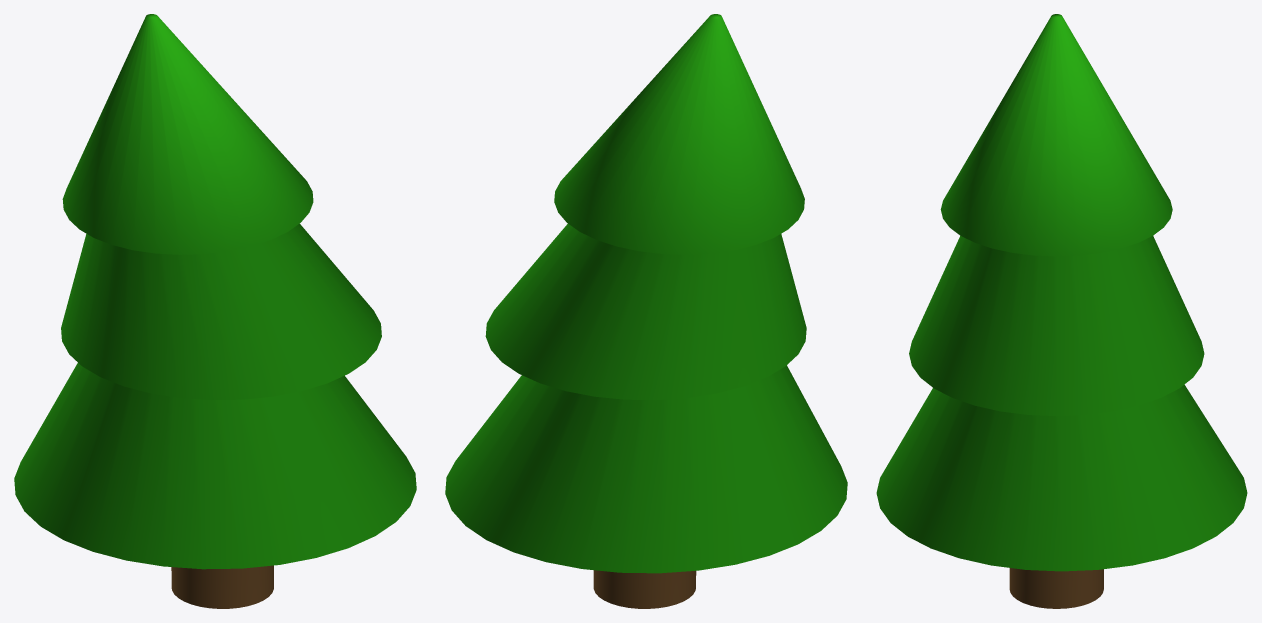
The model's file is Arbol_vivo3.fbx.
3 views of the same model, side by side, from view 1: azimuth 30°, elevation 25°; view 2: azimuth 150°, elevation 25°; view 3: azimuth 270°, elevation 25° (orthographic). The views are drawn at different scales.
Parts seen in each view (by area): view 1: Pino; view 2: Pino; view 3: Pino.
Boxes of the visible parts, x1,y1,x2,y2 form: Pino: (14, 14, 416, 608); Pino: (445, 14, 847, 608); Pino: (876, 14, 1247, 608).
Bounding box in the file's own units: 175 × 281 × 175.
